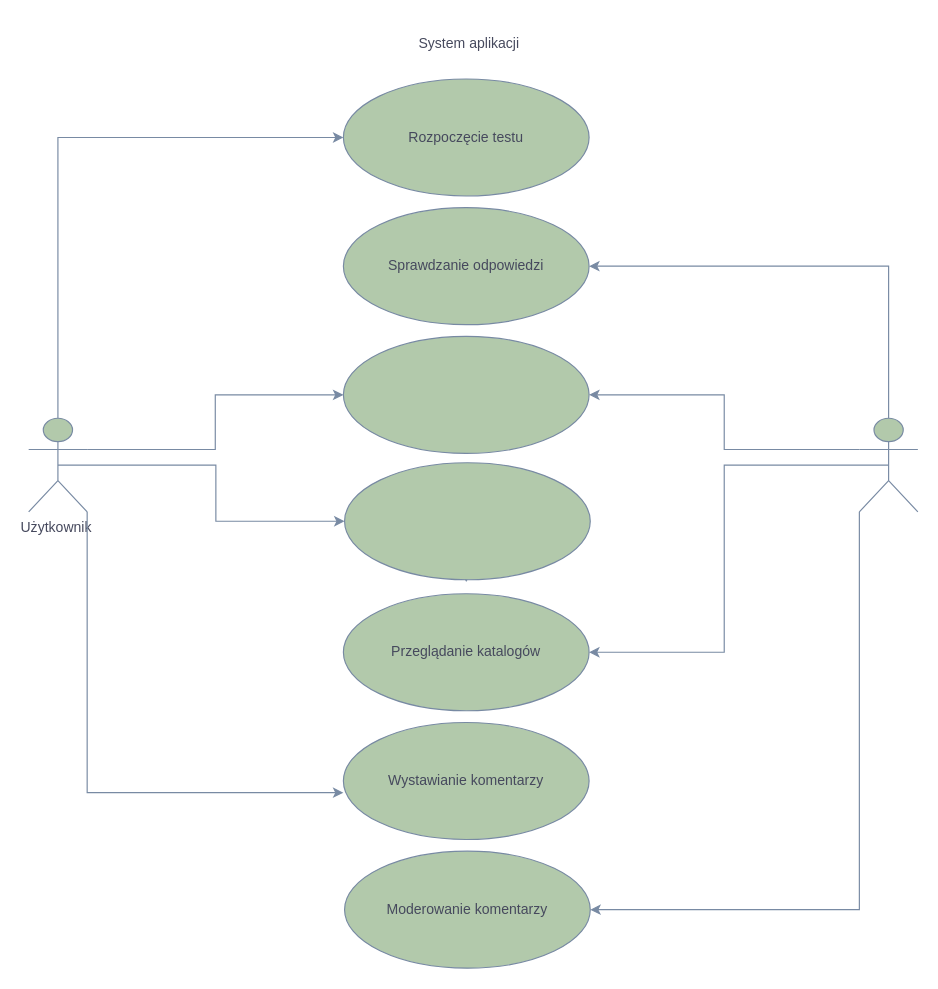
This 938x989 diagram has some shape labels left out. Each missing label, with the centre of its shape:
"Ocenianie testu" belongs at (465,394).
"Przeglądanie listy" belongs at (466,521).
"Skryp" belongs at (888,464).
